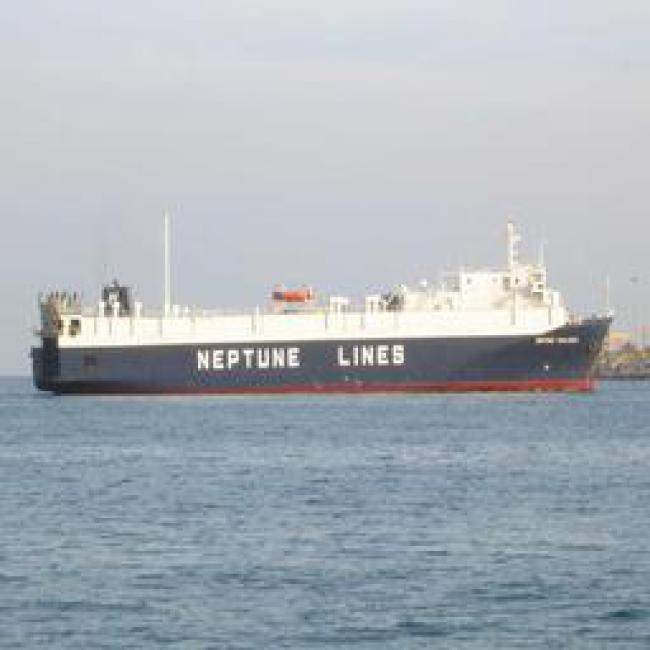Ship: (21, 276, 619, 399)
